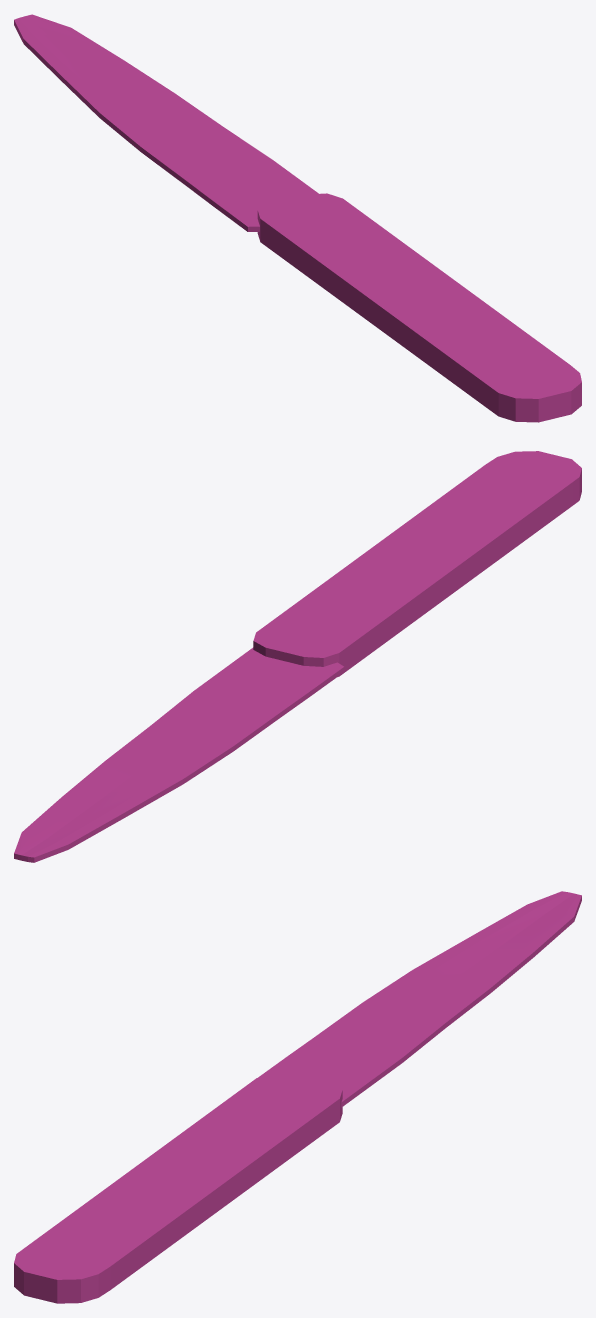
Rendered from Cuchillo_Normal.fbx.
The picture shows the model from 3 angles, top to bottom: view 1: azimuth 30°, elevation 25°; view 2: azimuth 150°, elevation 25°; view 3: azimuth 330°, elevation 25°; orthographic projection.
Parts seen in each view (by area): view 1: Cuchillo_Normal_PIVOT, FiloNormal; view 2: Cuchillo_Normal_PIVOT, FiloNormal; view 3: Cuchillo_Normal_PIVOT, FiloNormal.
Boxes of the visible parts, left/top/right/bottom form: Cuchillo_Normal_PIVOT: left=257, top=193, right=581, bottom=422; FiloNormal: left=14, top=14, right=318, bottom=231; Cuchillo_Normal_PIVOT: left=253, top=451, right=581, bottom=676; FiloNormal: left=14, top=647, right=344, bottom=862; Cuchillo_Normal_PIVOT: left=14, top=1073, right=342, bottom=1303; FiloNormal: left=258, top=891, right=581, bottom=1107.
Size of the model in its own units: 1.29 by 0.3185 by 13.
